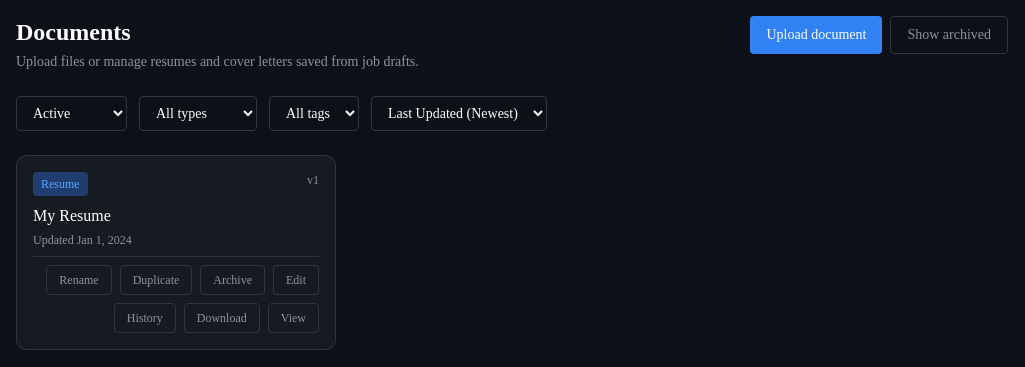
Test: DocumentsPage - S3-008 Document Archive and Restore › removes a document from the active view when Archive succeeds
Expected: the heading "My Resume" is shown, [33,207,111,224]
Step 1. Click the button with test id "document-archive-button" → (233, 280), box [200,265,265,295]
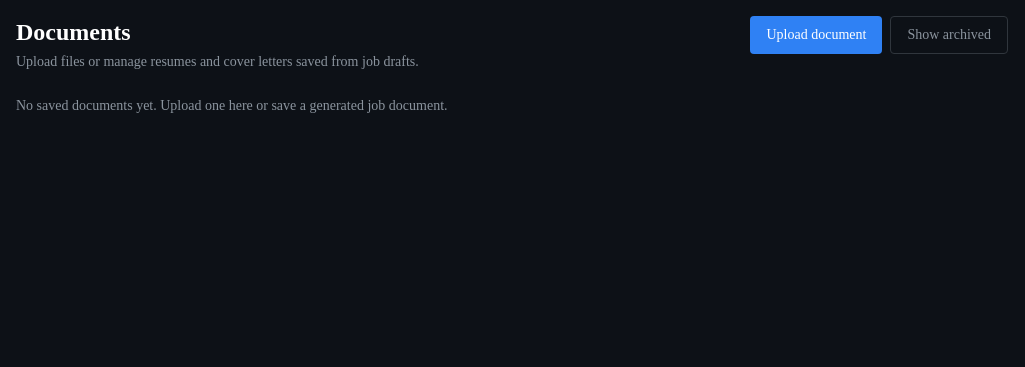
Now the heading "My Resume" is gone
